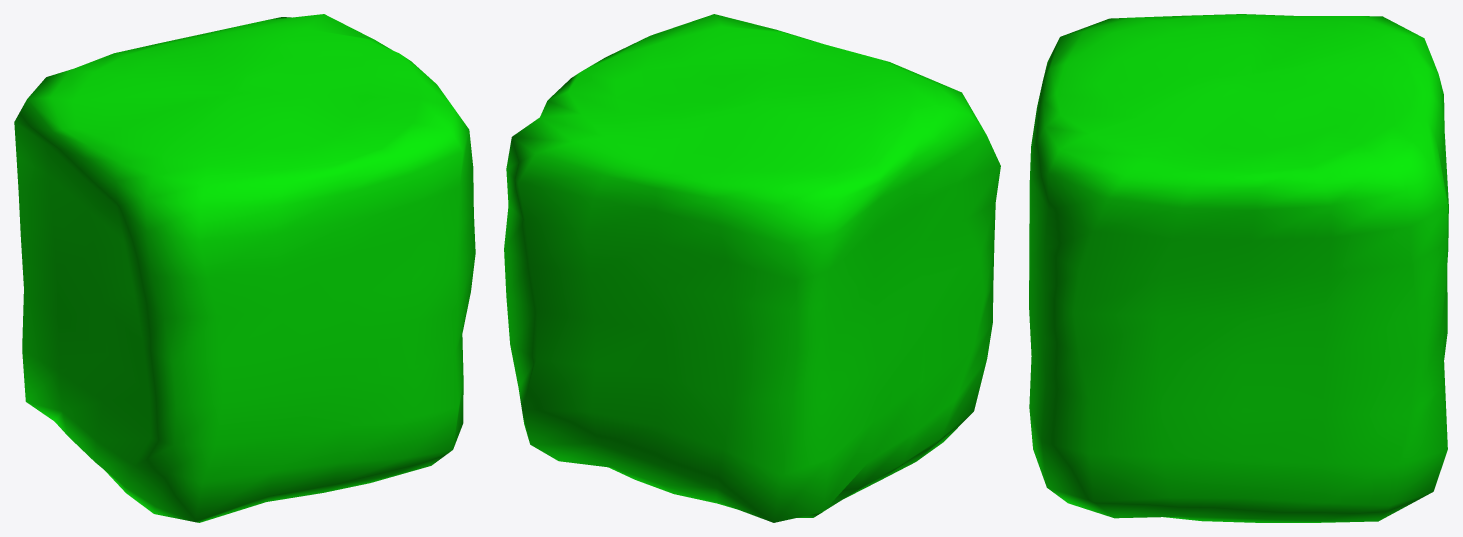
Rendered from куб (3).fbx.
The picture shows the model from 3 angles, left to right: view 1: azimuth 30°, elevation 25°; view 2: azimuth 150°, elevation 25°; view 3: azimuth 270°, elevation 25°; orthographic projection. The views are drawn at different scales.
Parts seen in each view (by area): view 1: XYZ_Ball_Rig_Abstrack_ball; view 2: XYZ_Ball_Rig_Abstrack_ball; view 3: XYZ_Ball_Rig_Abstrack_ball.
Part boxes in pixels (left/top/right/bottom): XYZ_Ball_Rig_Abstrack_ball: left=14, top=14, right=475, bottom=522; XYZ_Ball_Rig_Abstrack_ball: left=504, top=14, right=1000, bottom=522; XYZ_Ball_Rig_Abstrack_ball: left=1029, top=14, right=1448, bottom=522.
Size of the model in its own units: 30.52 by 29.92 by 29.56.
